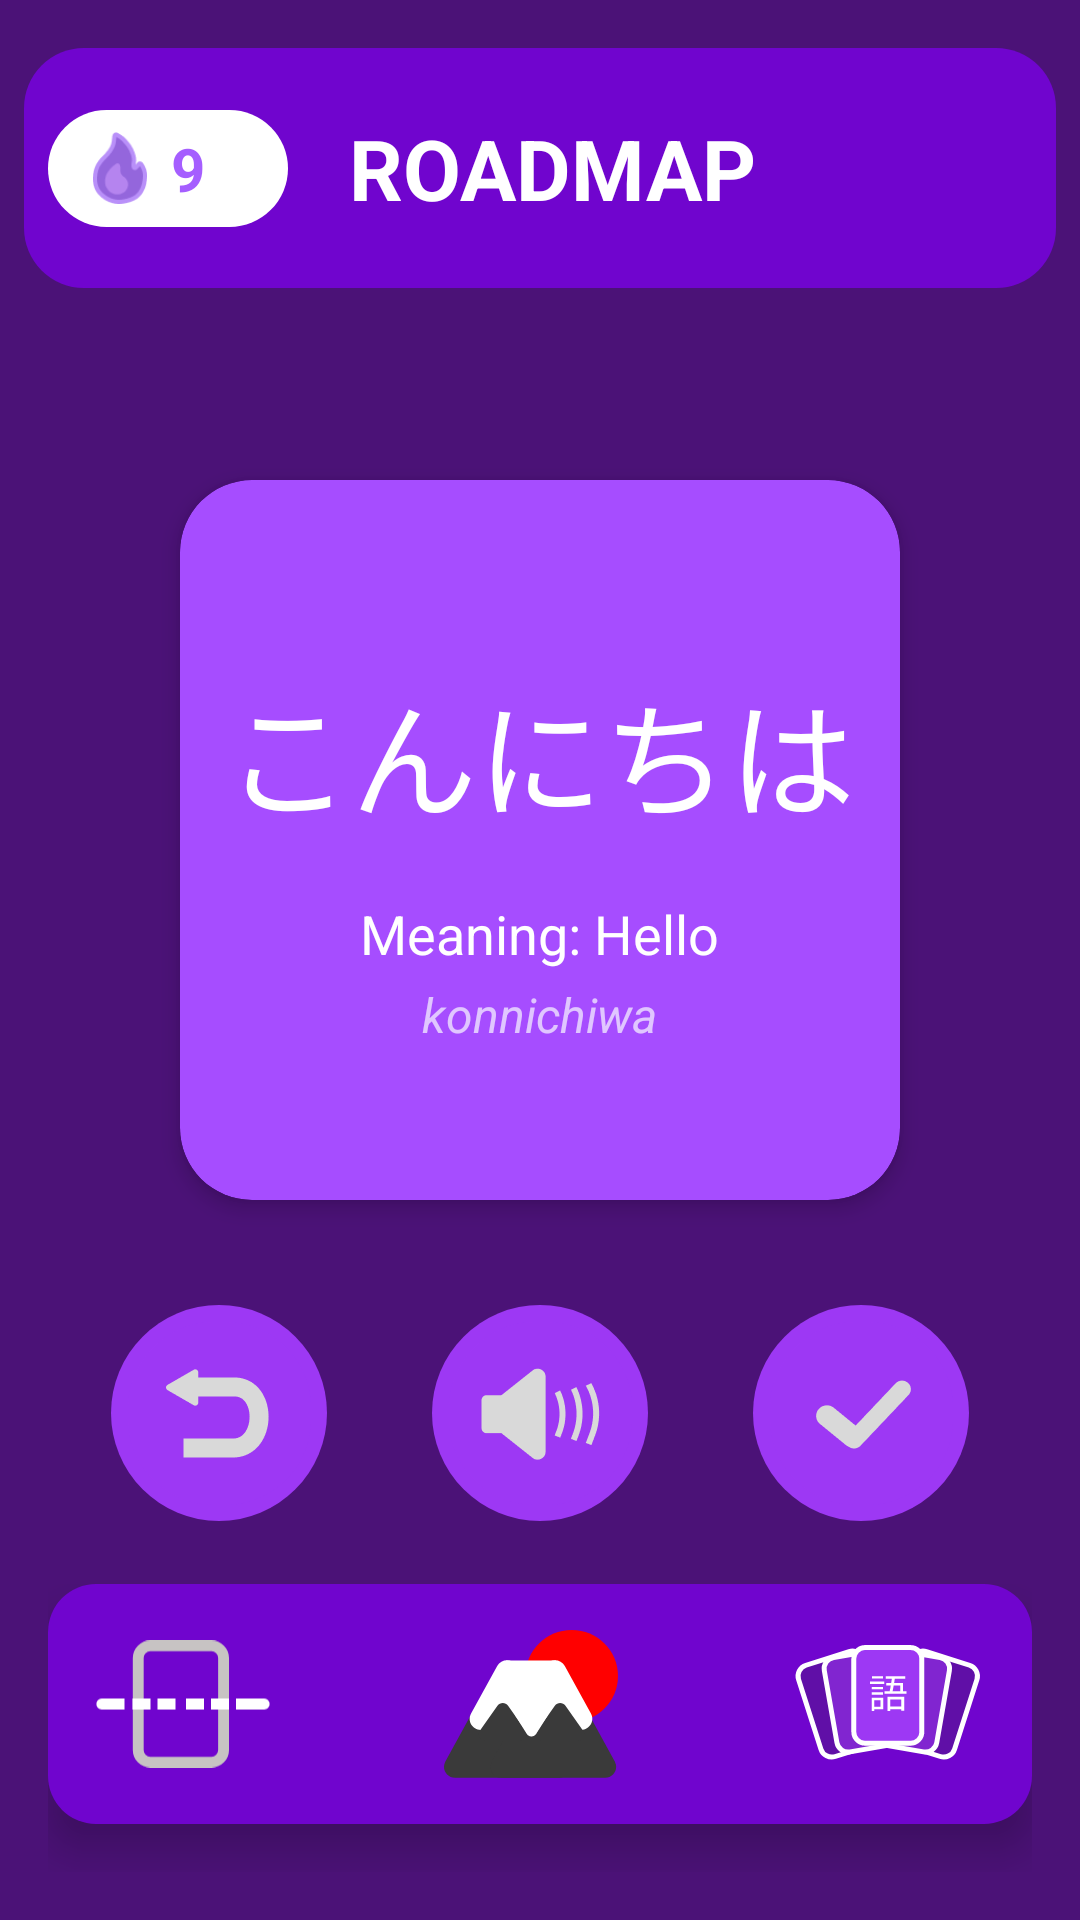

Point at icon controls on the screen. Image size 1080x1920, points as [x,y].
card next: [861,1413]
card play: [540,1413]
card prev: [219,1413]
decks: [887,1702]
rmap streak: [120,168]
scan: [183,1704]
